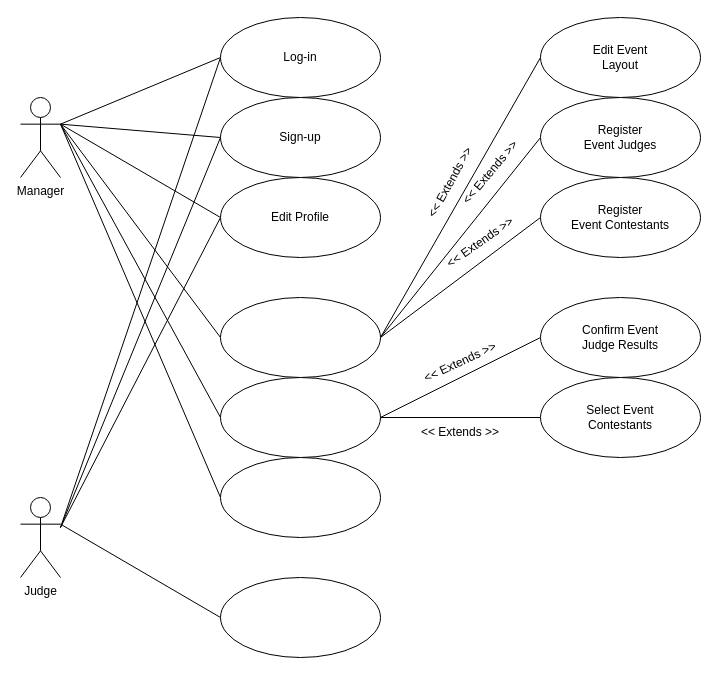
Some shapes in this 718 by 675 pixel diagram are drawn without their labels. The centre of each missing label's shape, as x and y in pixels:
Administer Event: the point at 300,417
Edit Event: the point at 300,337
Judge Event Contestant: the point at 300,617
View Event Contestant Results: the point at 300,497
